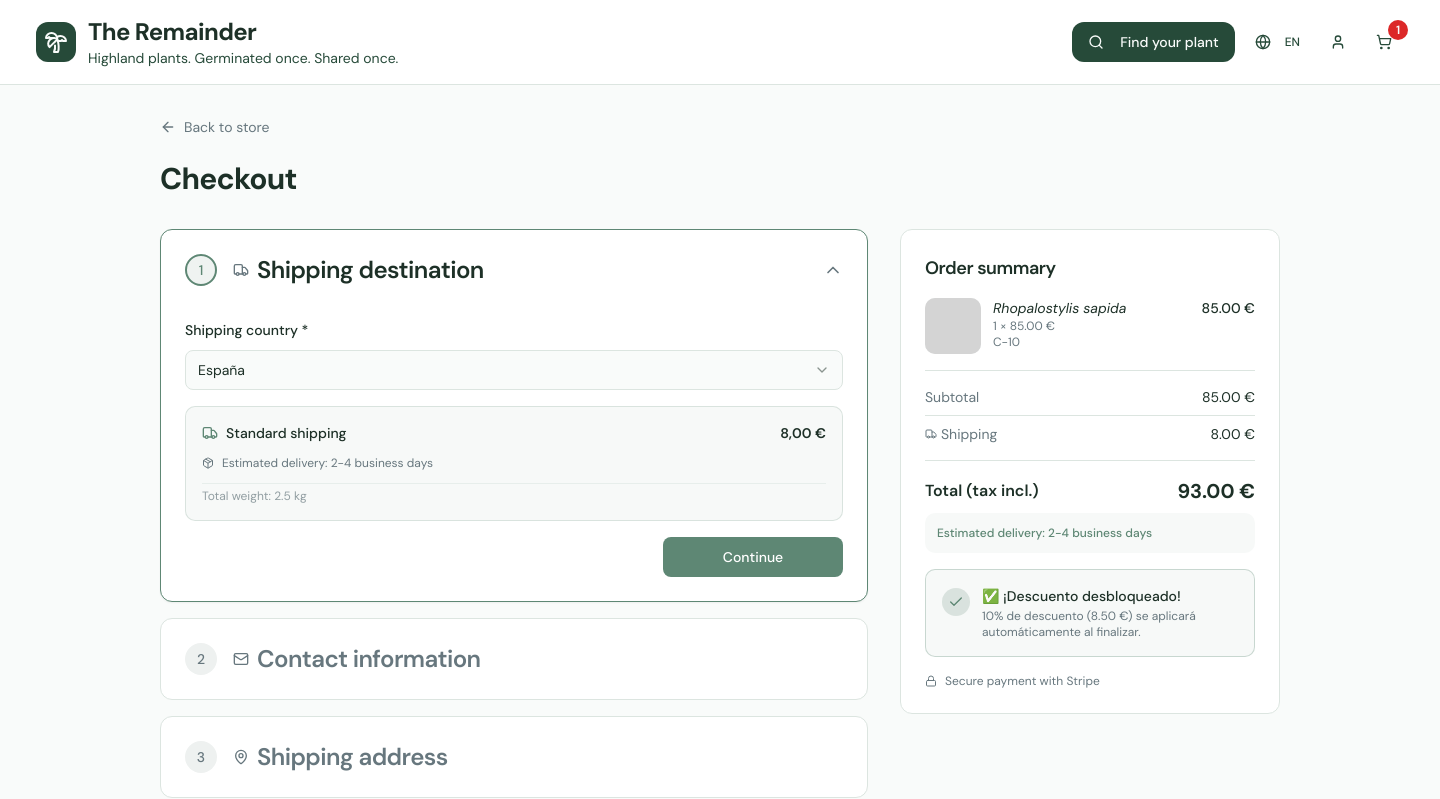
Test case: Checkout — form validation › shows error on invalid email
This screenshot has width=1440, height=799.
Note: Advance to contact step
Click the button "Continue" at (753, 557), box x1=663 y1=537 x2=843 y2=577
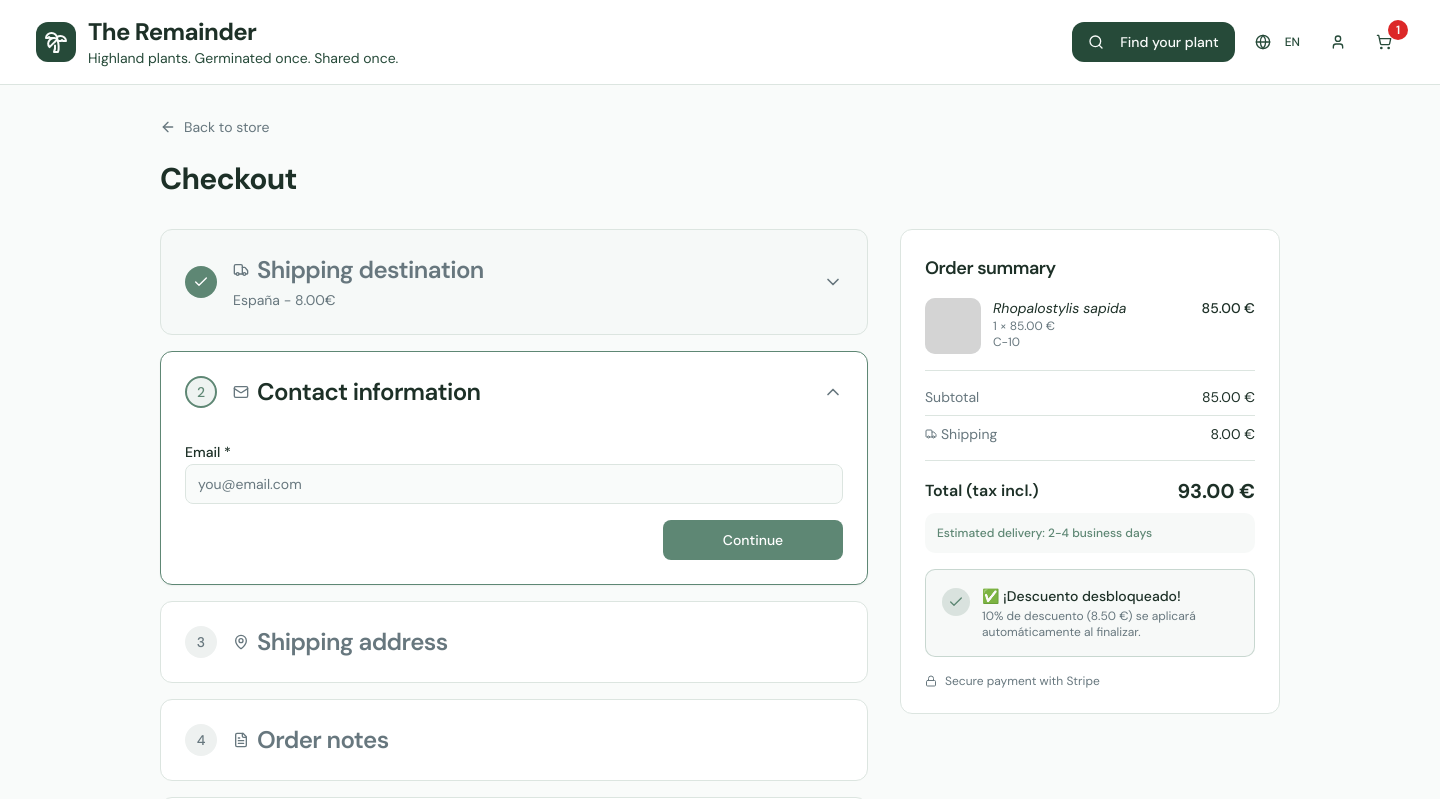
Check: the field with id "email" is shown, box x1=185 y1=464 x2=843 y2=504
Note: Leave email empty and try to continue
Click the button "Continue" at (753, 540), box x1=663 y1=520 x2=843 y2=560
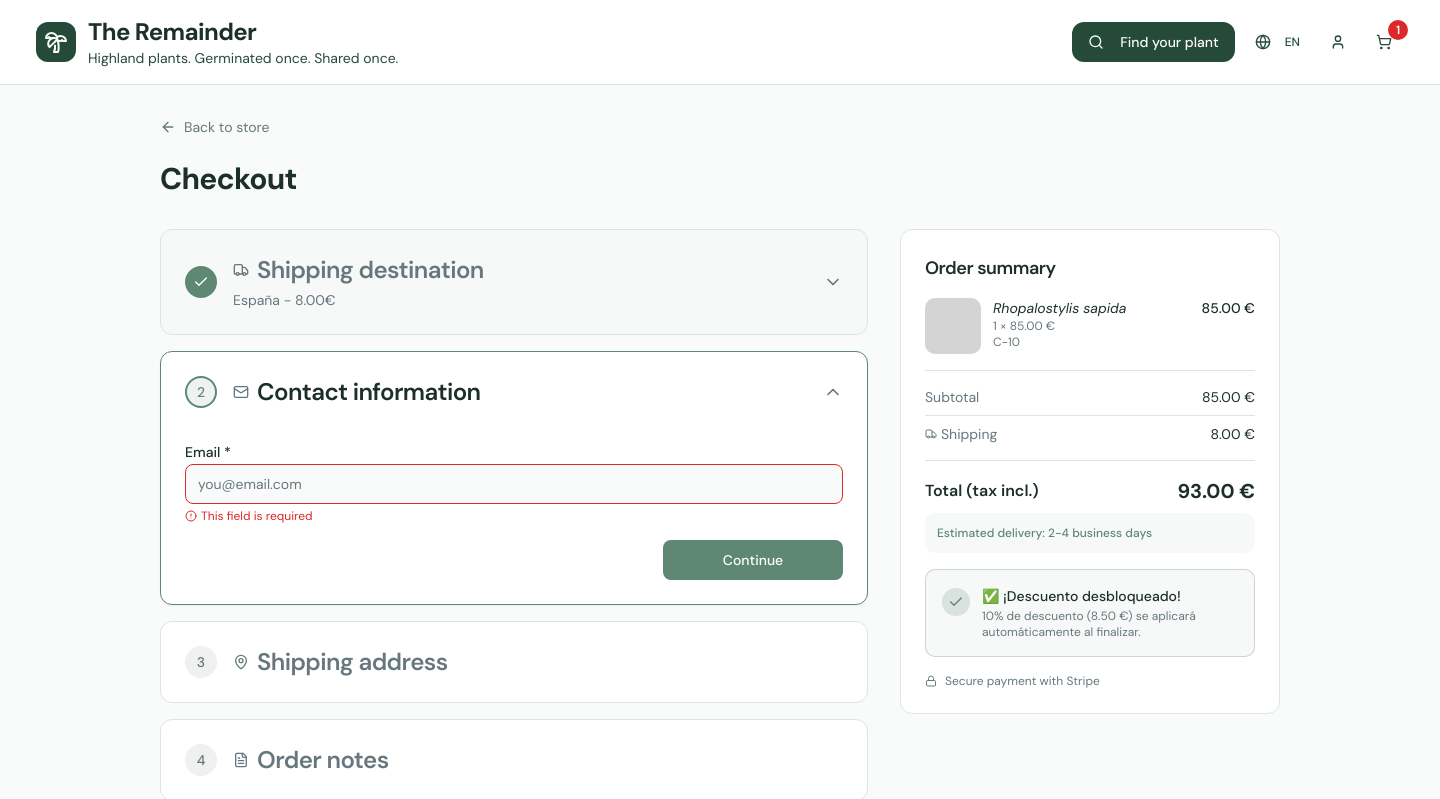
Check: the message "This field is required" is shown, box x1=185 y1=508 x2=313 y2=524
